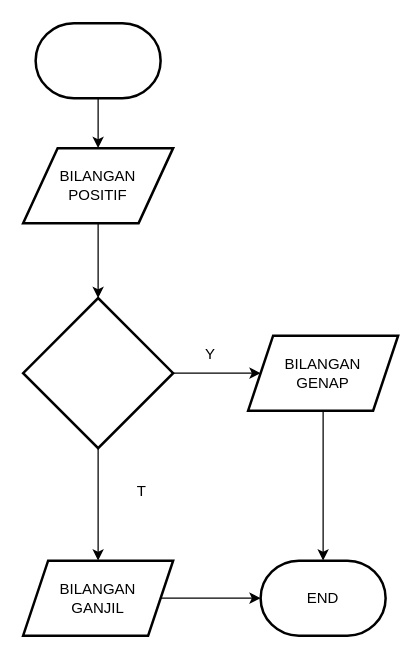
This 420x658 diagram has some shape labels left out. The shapes that lost their labels are listed below. From the top down, each one's box as (x1, y1, x2, y2) in pixels, then its label:
(34, 21, 161, 99): START
(21, 296, 174, 449): BIL%2
